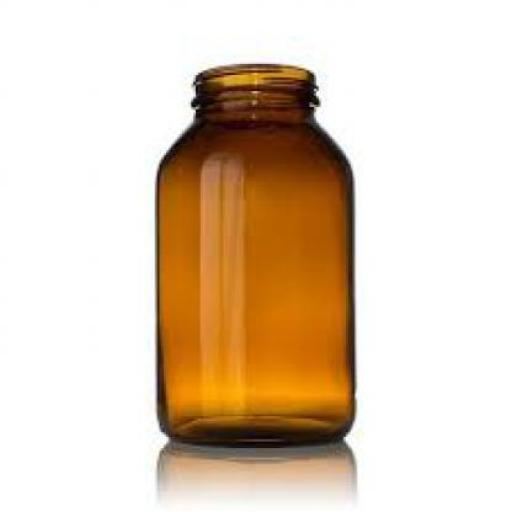glass: (155, 64, 355, 446)
